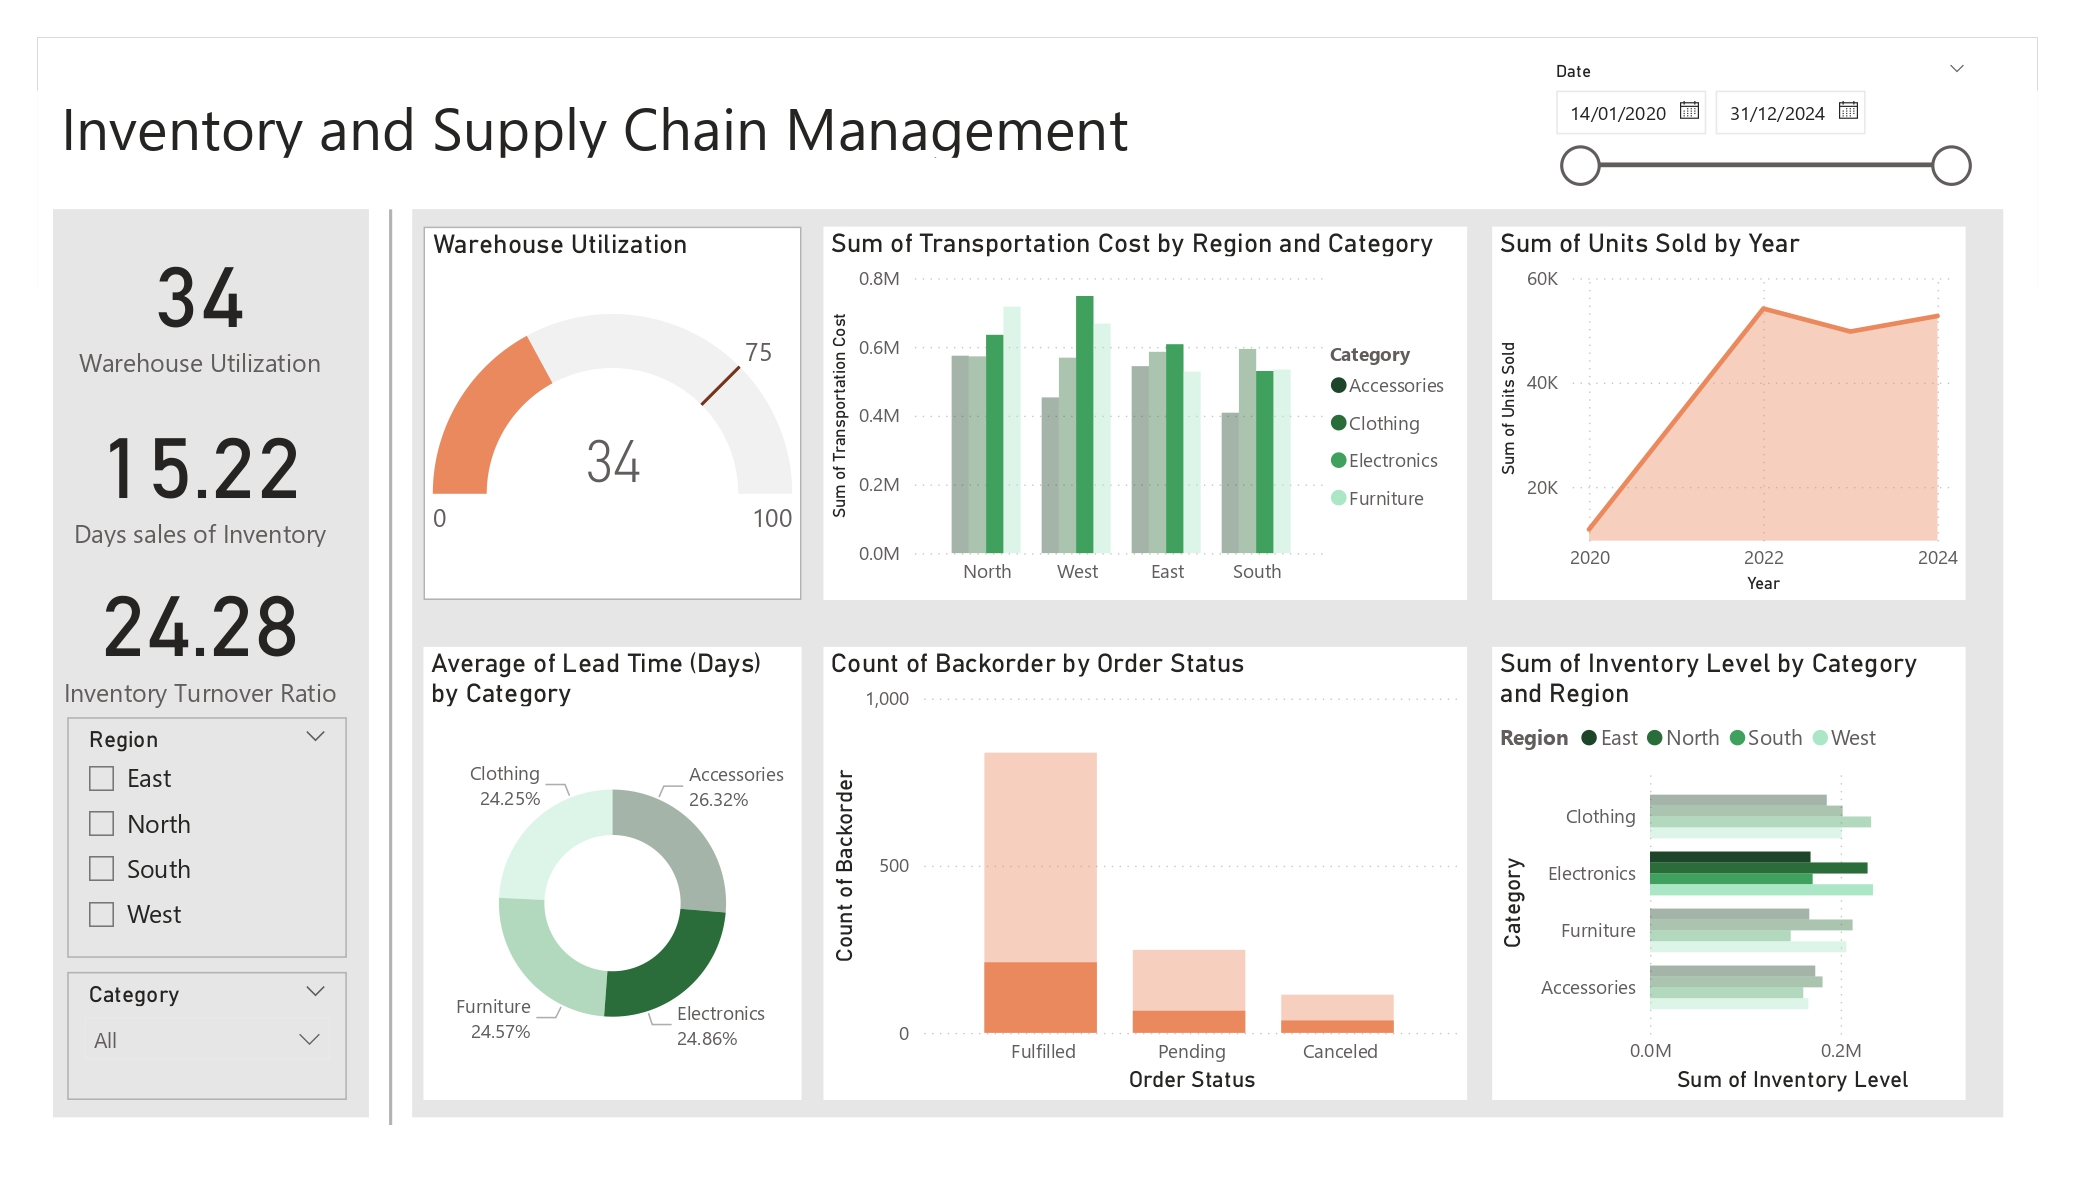

The dashboard page shown, as its layout file describes it:
{"tool":"powerbi","page":{"name":"Page 1","canvas":[1280,720],"ordinal":0},"visuals":[{"type":"shape","box":[240,110.1,1017.7,580.8],"z":0},{"type":"shape","box":[9.9,110.1,202.1,580.8],"z":1000},{"type":"textbox","box":[9.9,26.8,1046.8,55.3],"z":3000},{"type":"shape","box":[104.3,110.1,244.1,586],"z":4000},{"type":"card","fields":{"Values":["Inventory and Supply Chain Dataset.Warehouse Utilization"]},"box":[9.9,114.8,188.2,108.9],"z":5000},{"type":"card","fields":{"Values":["Inventory and Supply Chain Dataset.Days sales of Inventory"]},"box":[9.9,223.7,188.2,110.7],"z":6000},{"type":"card","fields":{"Values":["Inventory and Supply Chain Dataset.Inventory Turnover Ratio"]},"box":[9.9,326.2,188.2,108.9],"z":7000},{"type":"slicer","fields":{"Values":["Inventory and Supply Chain Dataset.Region"]},"box":[19.2,435.1,178.8,153.8],"z":8000},{"type":"slicer","fields":{"Values":["Inventory and Supply Chain Dataset.Category"]},"box":[19.2,597.7,178.8,82.7],"z":9000},{"type":"gauge","fields":{"Y":["Inventory and Supply Chain Dataset.Warehouse Utilization"]},"box":[247,120.6,241.7,239.4],"z":10000},{"type":"clusteredColumnChart","fields":{"Y":["Sum(Inventory and Supply Chain Dataset.Transportation Cost)"],"Category":["Inventory and Supply Chain Dataset.Region"],"Series":["Inventory and Supply Chain Dataset.Category"]},"box":[502.7,120.6,411.8,239.4],"z":11000},{"type":"lineChart","fields":{"Y":["Sum(Inventory and Supply Chain Dataset.Units Sold)"],"Category":["Inventory and Supply Chain Dataset.Date.Variation.Date Hierarchy.Year"]},"box":[930.9,120.6,303.5,239.4],"z":12000},{"type":"donutChart","fields":{"Y":["Avg(Inventory and Supply Chain Dataset.Lead Time (Days))"],"Category":["Inventory and Supply Chain Dataset.Category"]},"box":[247,389.7,241.7,290.7],"z":13000},{"type":"columnChart","fields":{"Y":["CountNonNull(Inventory and Supply Chain Dataset.Backorder)"],"Category":["Inventory and Supply Chain Dataset.Order Status"]},"box":[502.7,389.7,411.8,290.1],"z":14000},{"type":"clusteredBarChart","fields":{"Y":["Sum(Inventory and Supply Chain Dataset.Inventory Level)"],"Category":["Inventory and Supply Chain Dataset.Category"],"Series":["Inventory and Supply Chain Dataset.Region"]},"box":[930.9,389.7,303.5,290.1],"z":15000},{"type":"slicer","fields":{"Values":["Inventory and Supply Chain Dataset.Date"]},"box":[958.8,10.5,287.2,88],"z":15001}]}

Visuals, with their boxes in screenshot pixels (x1, y1, x2, y2):
shape: [412, 210, 2003, 1117]
shape: [53, 210, 369, 1117]
textbox: [53, 79, 1689, 166]
shape: [200, 210, 582, 1125]
card - Inventory and Supply Chain Dataset.Warehouse Utilization: [53, 217, 347, 387]
card - Inventory and Supply Chain Dataset.Days sales of Inventory: [53, 387, 347, 560]
card - Inventory and Supply Chain Dataset.Inventory Turnover Ratio: [53, 547, 347, 717]
slicer - Inventory and Supply Chain Dataset.Region: [68, 717, 347, 958]
slicer - Inventory and Supply Chain Dataset.Category: [68, 971, 347, 1101]
gauge - Inventory and Supply Chain Dataset.Warehouse Utilization: [423, 226, 801, 600]
clusteredColumnChart - Sum(Inventory and Supply Chain Dataset.Transportation Cost) x Inventory and Supply Chain Dataset.Region: [823, 226, 1466, 600]
lineChart - Sum(Inventory and Supply Chain Dataset.Units Sold) x Inventory and Supply Chain Dataset.Date.Variation.Date Hierarchy.Year: [1492, 226, 1966, 600]
donutChart - Avg(Inventory and Supply Chain Dataset.Lead Time (Days)) x Inventory and Supply Chain Dataset.Category: [423, 646, 801, 1101]
columnChart - CountNonNull(Inventory and Supply Chain Dataset.Backorder) x Inventory and Supply Chain Dataset.Order Status: [823, 646, 1466, 1100]
clusteredBarChart - Sum(Inventory and Supply Chain Dataset.Inventory Level) x Inventory and Supply Chain Dataset.Category: [1492, 646, 1966, 1100]
slicer - Inventory and Supply Chain Dataset.Date: [1536, 54, 1984, 191]
